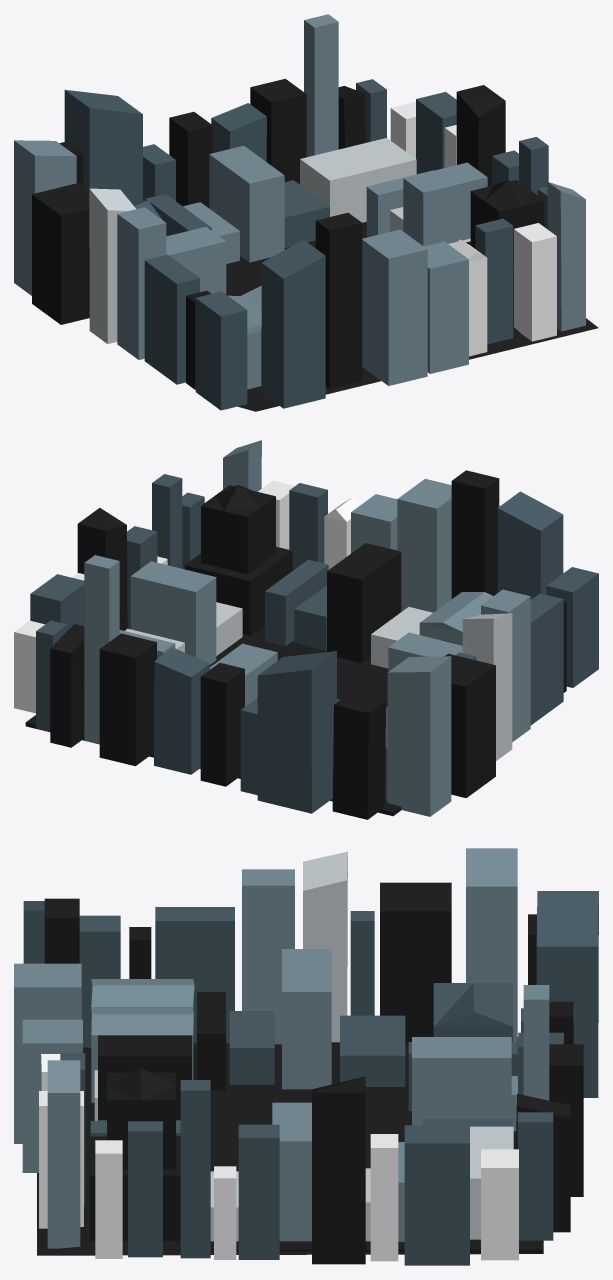
3 renders of one model, top to bottom at view 1: azimuth 30°, elevation 25°; view 2: azimuth 150°, elevation 25°; view 3: azimuth 270°, elevation 25°, orthographic. The views are drawn at different scales.
Visible parts, largest first — view 1: group_528147799, mesh_425845929; view 2: group_528147799, mesh_425845929; view 3: group_528147799, mesh_425845929.
Boxes of the visible parts, x1,y1,x2,y2 form: group_528147799: (14, 14, 598, 411); mesh_425845929: (470, 180, 544, 263); group_528147799: (14, 440, 598, 819); mesh_425845929: (201, 485, 275, 574); group_528147799: (14, 848, 598, 1265); mesh_425845929: (107, 1067, 175, 1169).
Size of the model in its own units: 903 by 370 by 881.
